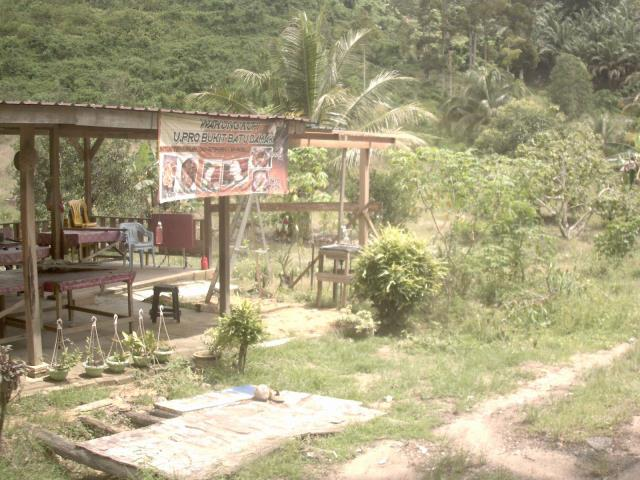ads_sign: (148, 105, 296, 214)
